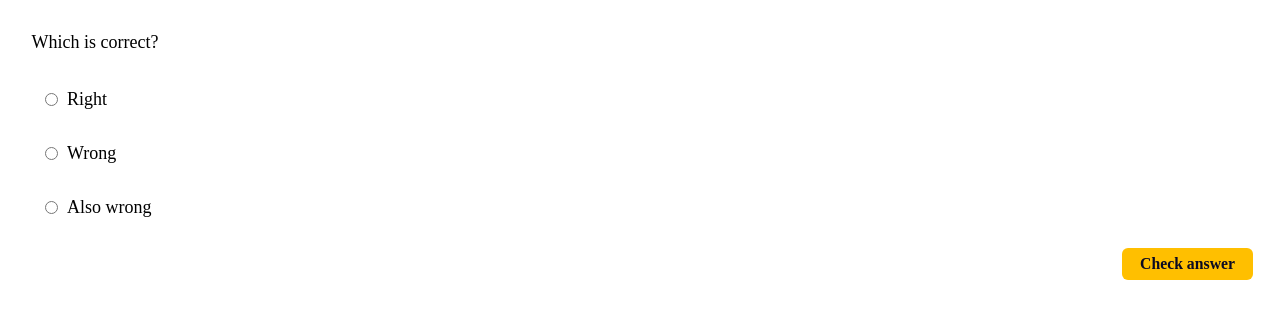
it: MultipleChoice › disables all radios after a correct answer
The image size is (1280, 327).
Click the radio button labelled "Right".
click(52, 99)  # box top-left (45, 92), bottom-right (58, 106)
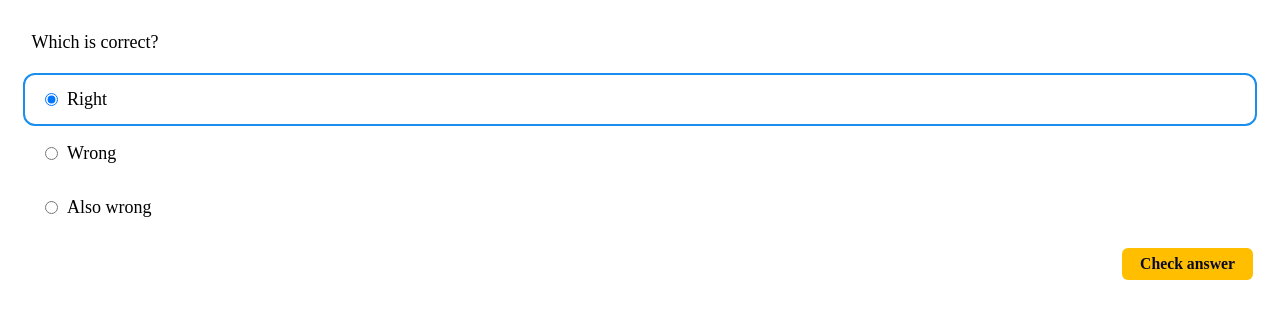
Click the button "Check answer".
click(1188, 264)  # box top-left (1122, 248), bottom-right (1253, 280)
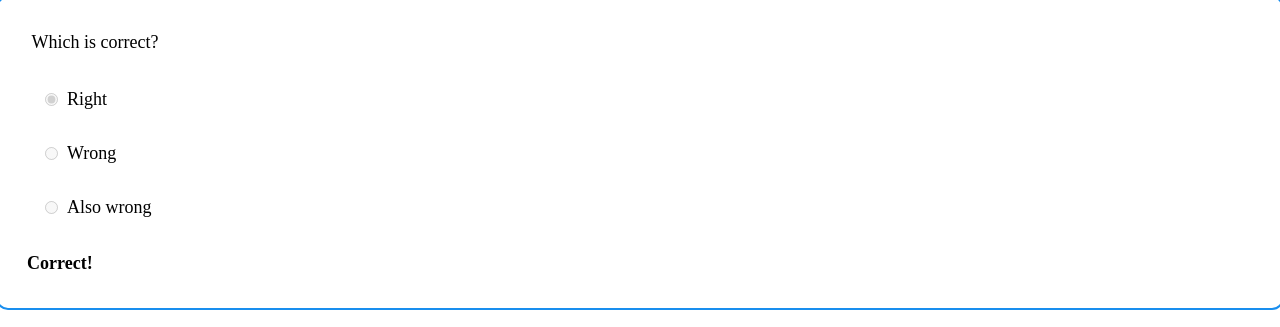
Check: the radio button labelled "Right" is disabled, box top-left (45, 92), bottom-right (58, 106)
Check: the radio button labelled "Wrong" is disabled, box top-left (45, 146), bottom-right (58, 160)
Check: the radio button labelled "Also wrong" is disabled, box top-left (45, 200), bottom-right (58, 214)
